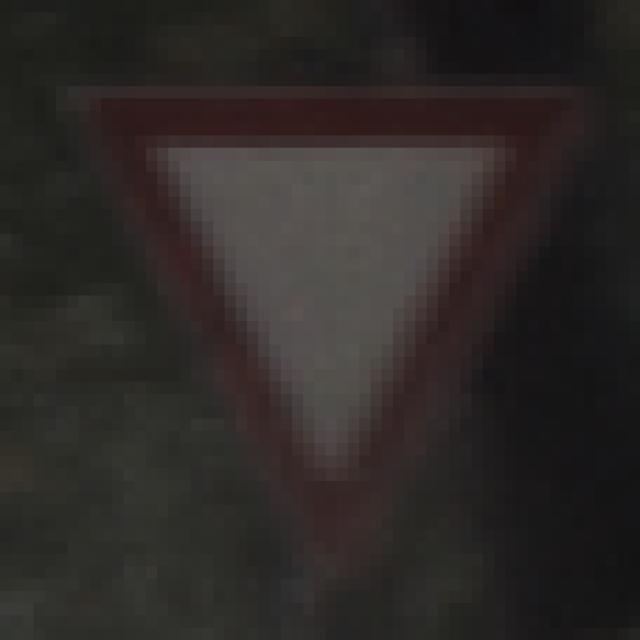Give Way: (68, 75, 574, 579)
